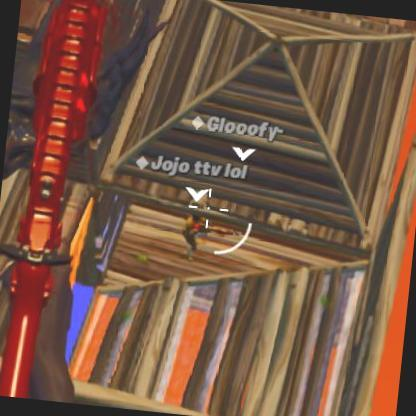person: (178, 209, 220, 266)
